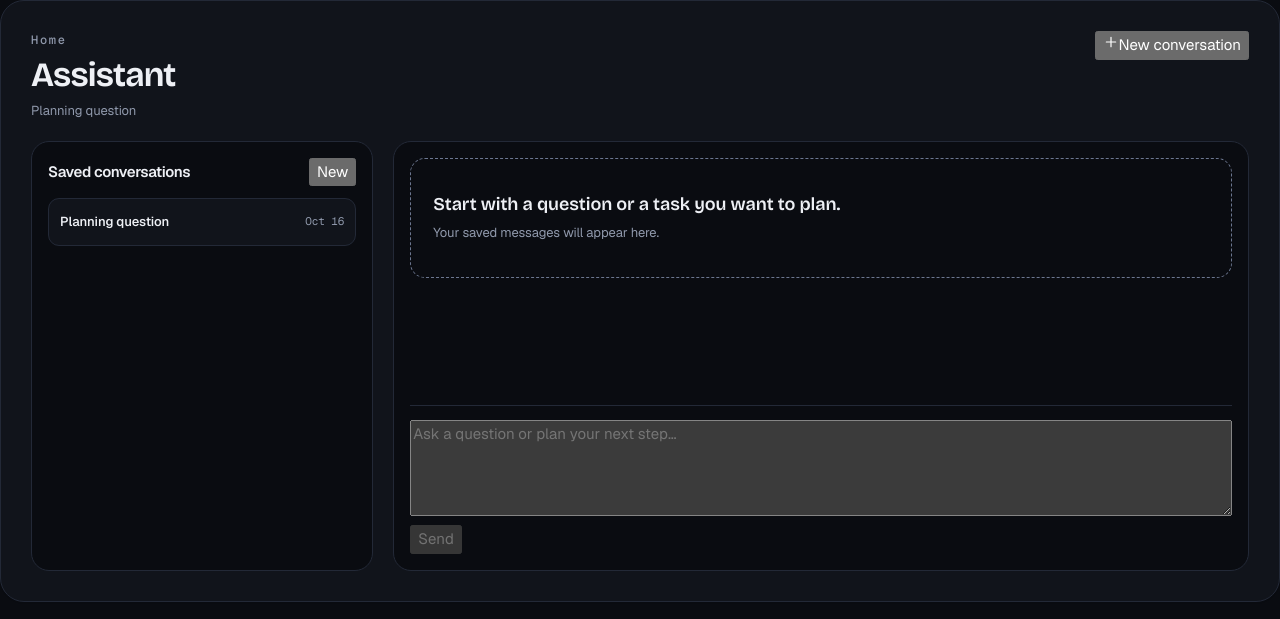
Scenario: Home chat › reconciles before offering an explicit same-key retry after an uncertain submit
The width and height of the screenshot is (1280, 619).
Type "My question" into the text box named "Message the assistant" at (821, 468), box x1=410 y1=420 x2=1232 y2=516
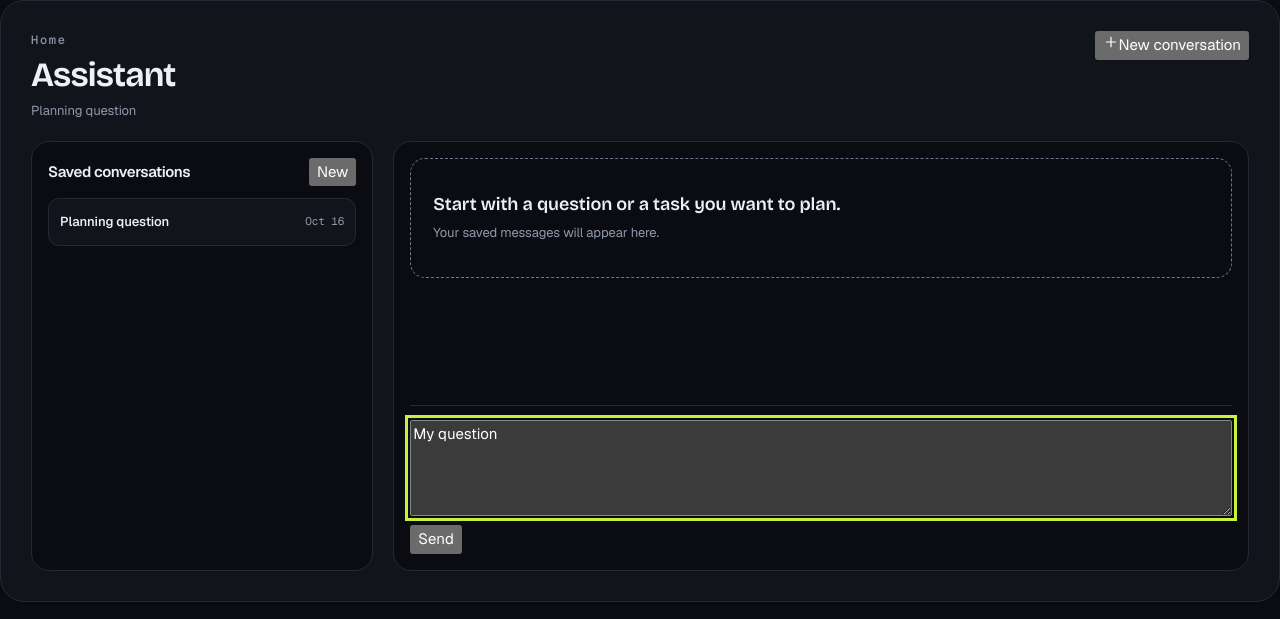
Click the button "Send" at (436, 539), box x1=410 y1=525 x2=462 y2=554
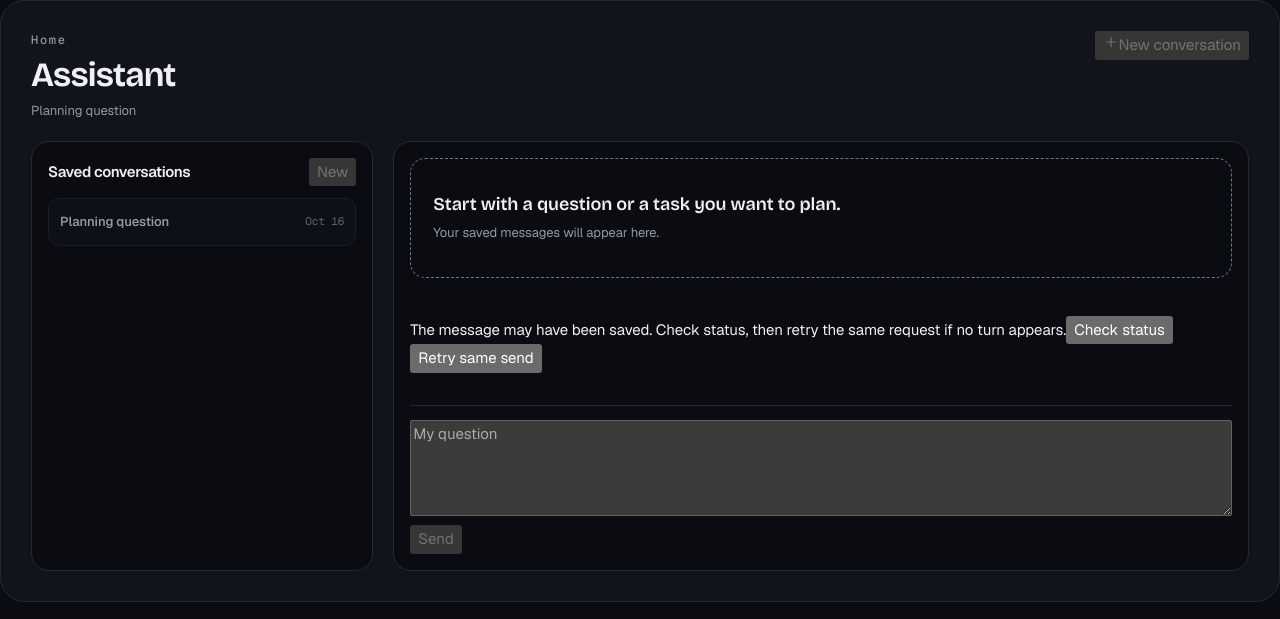
expect the button "Retry same send" is shown: met
Click the button "Retry same send" at (476, 358), box x1=410 y1=344 x2=542 y2=373
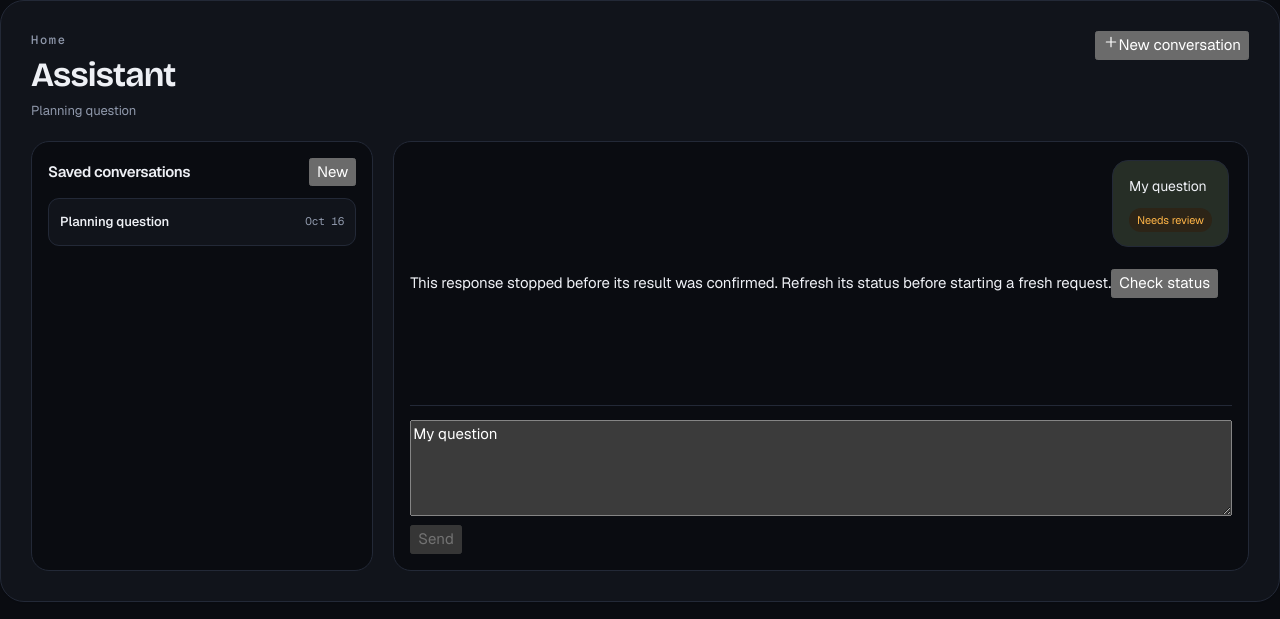
expect the text "Needs review" is shown: met, box x1=1129 y1=208 x2=1212 y2=232
